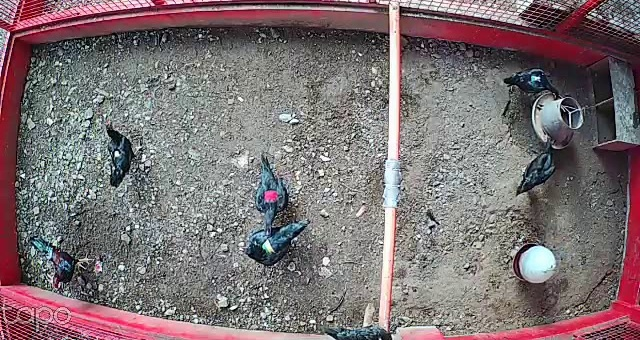Chicken: (240, 216, 314, 268), (514, 132, 562, 197), (252, 151, 288, 237), (103, 121, 145, 194), (501, 60, 562, 107), (323, 318, 394, 340)
Rooster: (28, 233, 97, 295)
Saddle_Color_Red: (262, 188, 282, 202)
Saddle_Color_Yellow: (112, 150, 120, 157)
Saddle_Color_YellowGreen: (259, 240, 276, 254)
